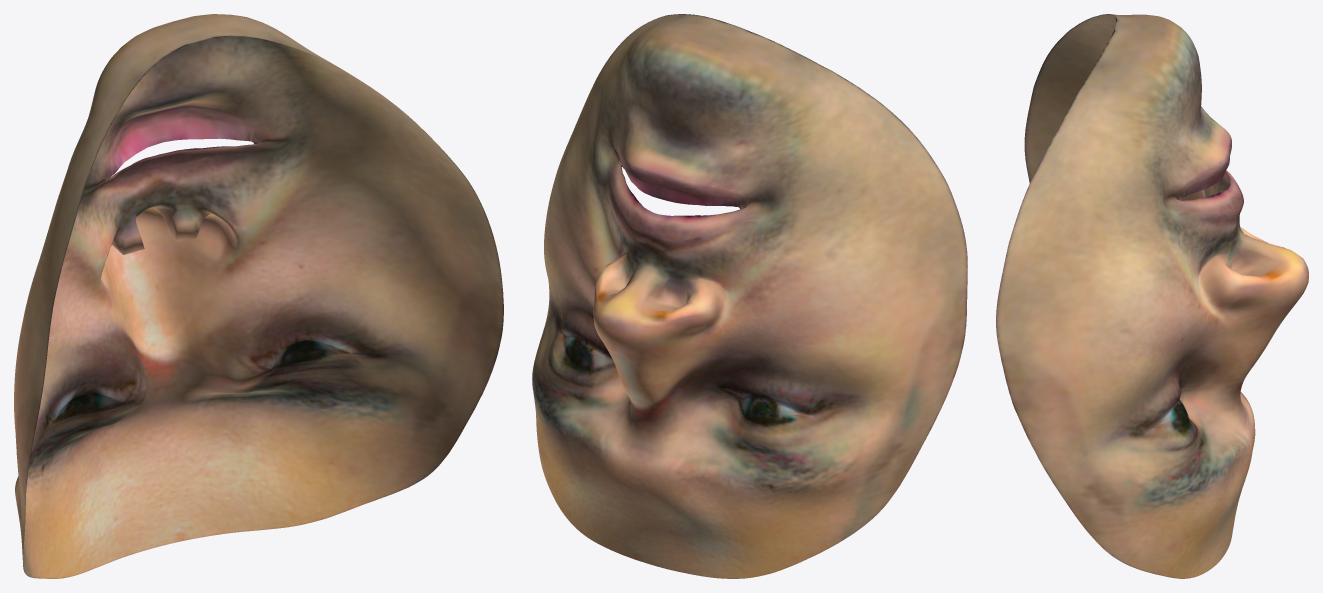
The model's file is NextFace.glb.
3 renders of one model, left to right at view 1: azimuth 30°, elevation 25°; view 2: azimuth 150°, elevation 25°; view 3: azimuth 270°, elevation 25°, orthographic. The views are drawn at different scales.
Visible parts, largest first — view 1: mesh0.002; view 2: mesh0.002; view 3: mesh0.002.
Part boxes in pixels (x1,y1,x2,y2): mesh0.002: [14, 14, 503, 578]; mesh0.002: [532, 14, 967, 578]; mesh0.002: [996, 14, 1308, 578].
Size of the model in its own units: 0.8509 by 1 by 0.5697.
Materials: 1 (1 with a texture image).
